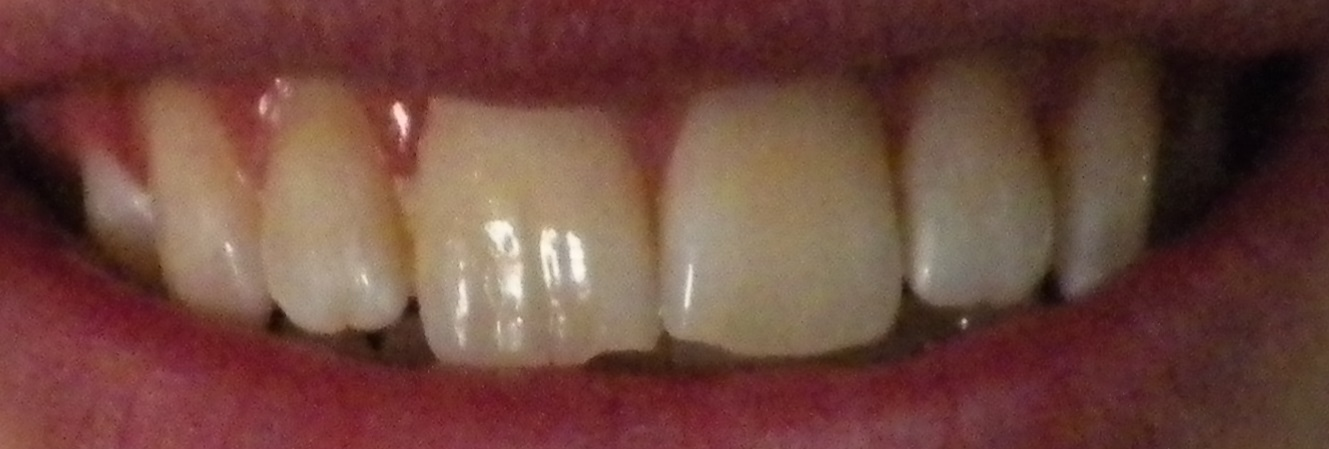boca: (62, 87, 1243, 365)
